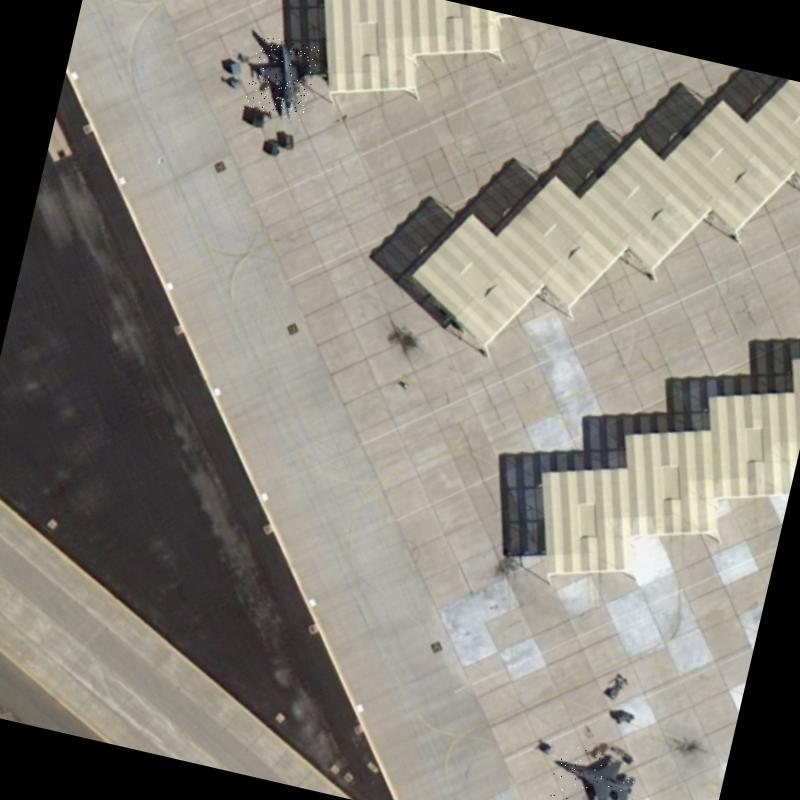A5: (242, 34, 320, 122), (542, 740, 641, 800)
